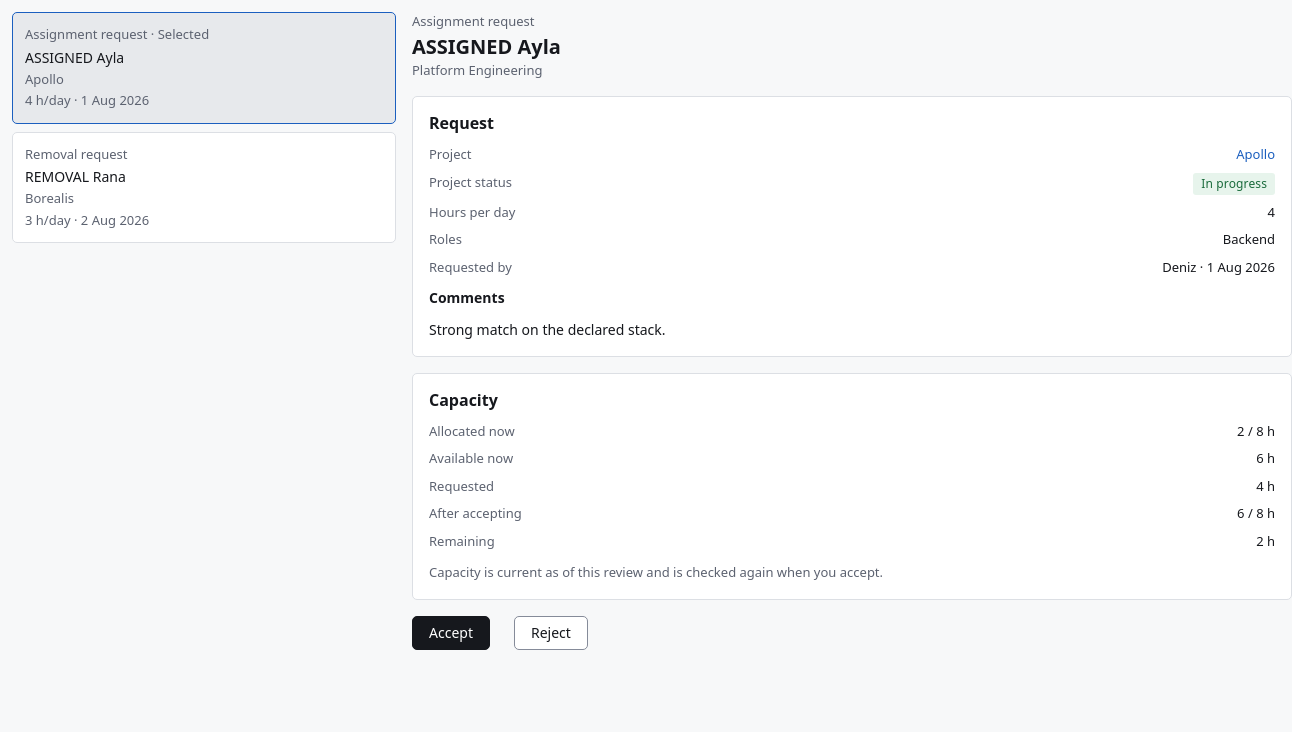
Test case: queue order and selection › switches request without asking the backend for anything
Click the button "Removal request REMOVAL Rana Borealis 3 h/day · 2 Aug 2026" at (76, 154), box [12, 132, 396, 243]
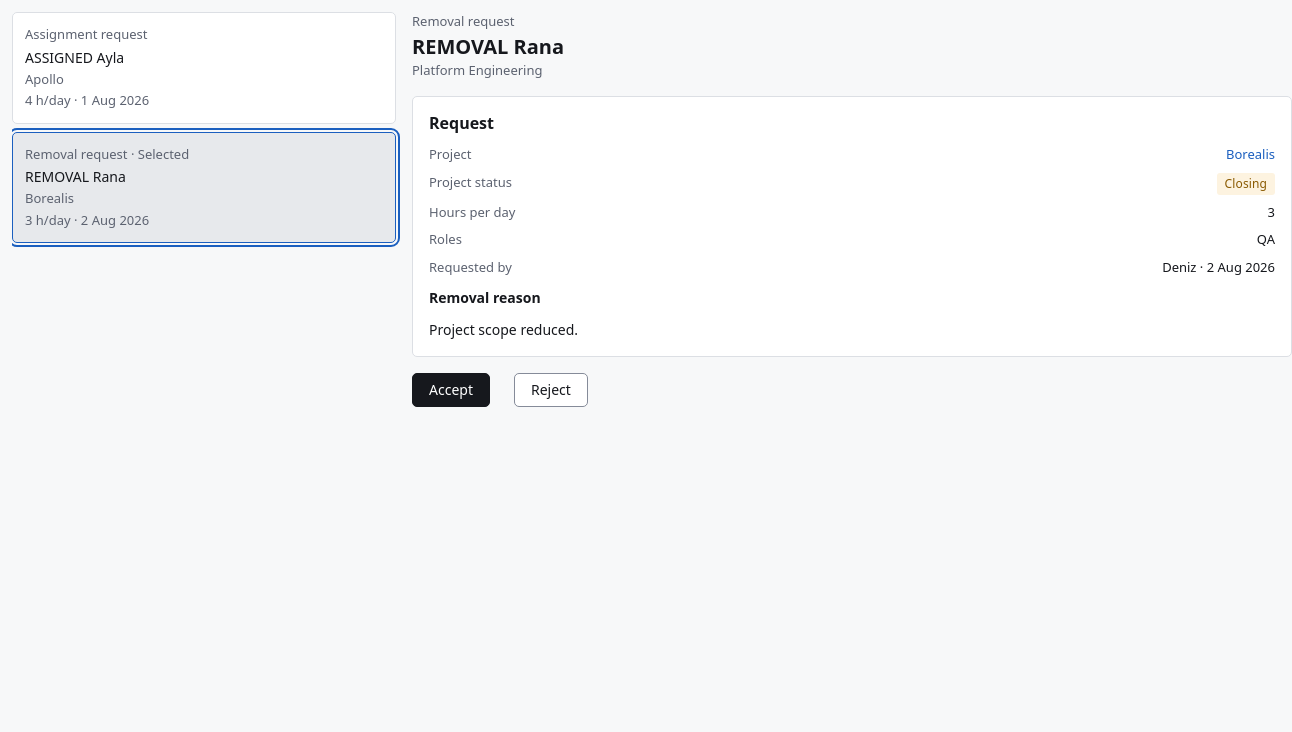
Result: the heading "REMOVAL Rana" is shown at [412, 32, 564, 60]
